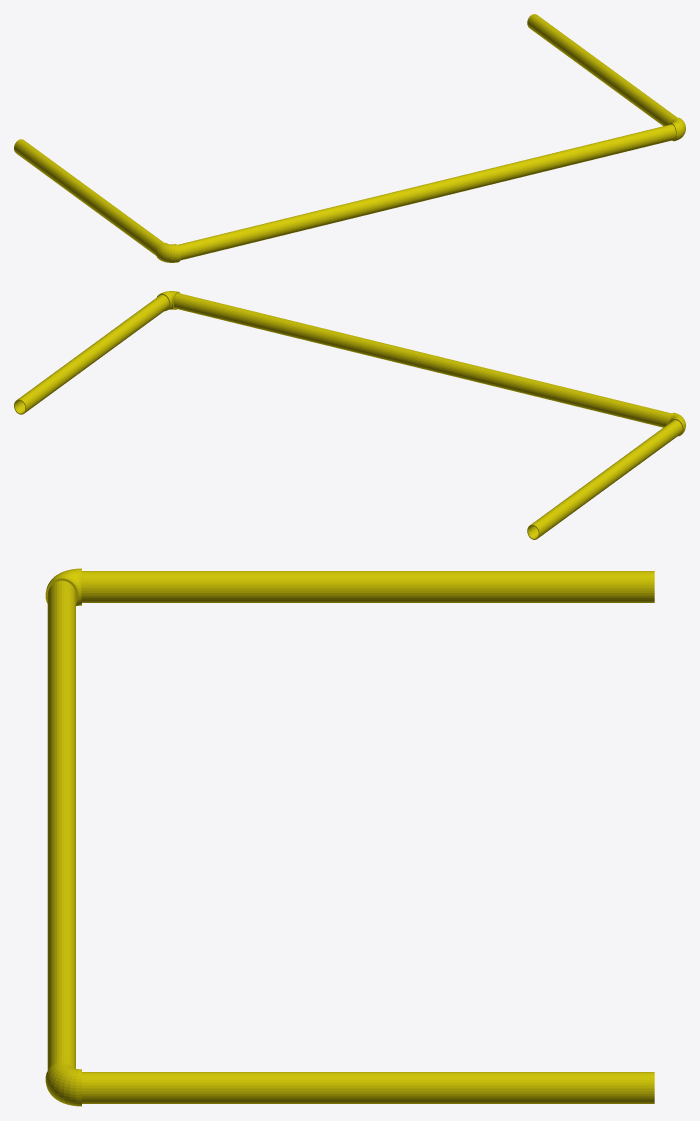
File: nav_gate.dae
3 views of the same model, one above another, from view 1: azimuth 30°, elevation 25°; view 2: azimuth 150°, elevation 25°; view 3: azimuth 270°, elevation 25° (orthographic). The views are drawn at different scales.
Visible parts, largest first — view 1: SubjuGator_Navigation_Gate_Model; view 2: SubjuGator_Navigation_Gate_Model; view 3: SubjuGator_Navigation_Gate_Model.
Boxes of the visible parts, box(x1,y1,x2,y2) form: SubjuGator_Navigation_Gate_Model: box(14, 14, 685, 262); SubjuGator_Navigation_Gate_Model: box(14, 291, 685, 539); SubjuGator_Navigation_Gate_Model: box(45, 568, 654, 1106).
Size of the model in its own units: 96 by 48 by 3.
